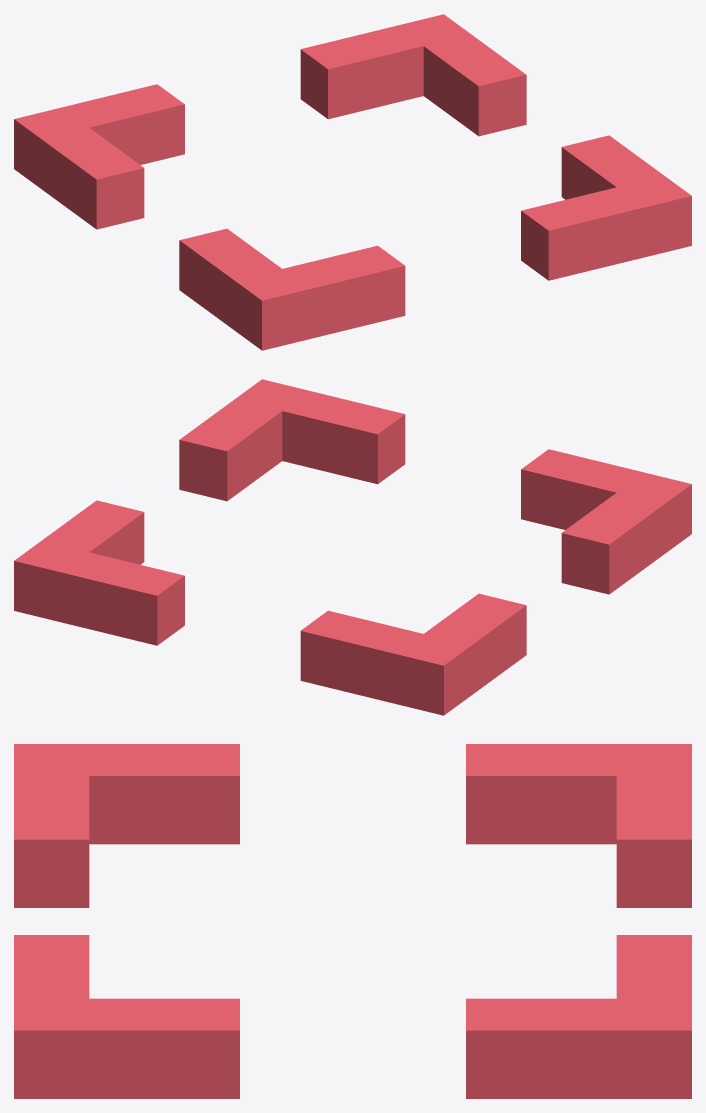
Rendered from Selector 2.obj.
3 views of the same model, one above another, from view 1: azimuth 30°, elevation 25°; view 2: azimuth 150°, elevation 25°; view 3: azimuth 270°, elevation 25° (orthographic). The views are drawn at different scales.
Bounding box in the file's own units: 0.9 × 0.1 × 0.9.
1 material, 1 textured.
